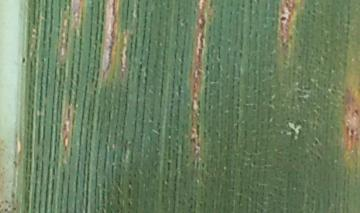tarspot: (21, 55, 28, 65)
